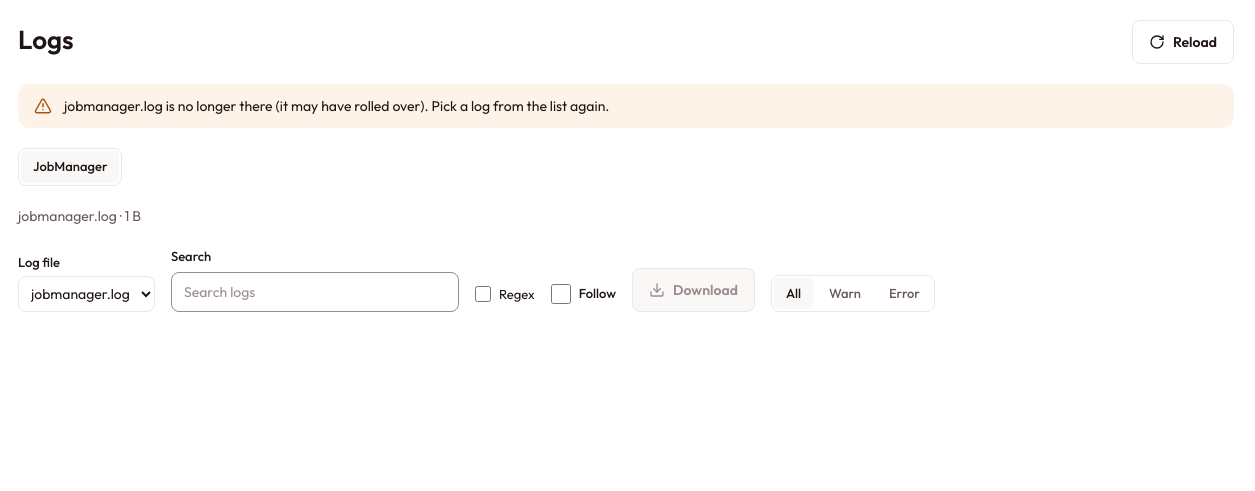
Scenario: OPS-01 · Logs (D18, D18b) › audit logs2: with one file that rolled over, Reload lists and reads again, and the LOG-GONE banner goes
The width and height of the screenshot is (1255, 491).
Expected: the text "jobmanager.log is no longer there" is shown, 64,97 -> 609,115
Expected: the dropdown labelled "Log file" is shown, 18,276 -> 155,312
Step 1. Click the button "Reload" → (1183, 42), box 1132,20 -> 1234,64
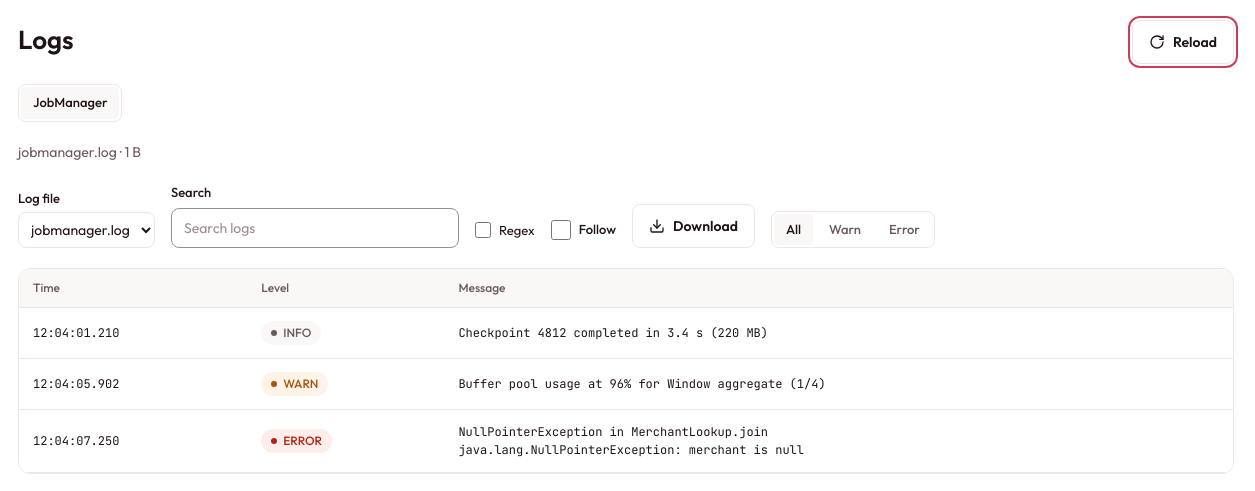
Result: the table named "Log lines" is shown at 19,269 -> 1233,473
Result: the text "is no longer there" is gone
